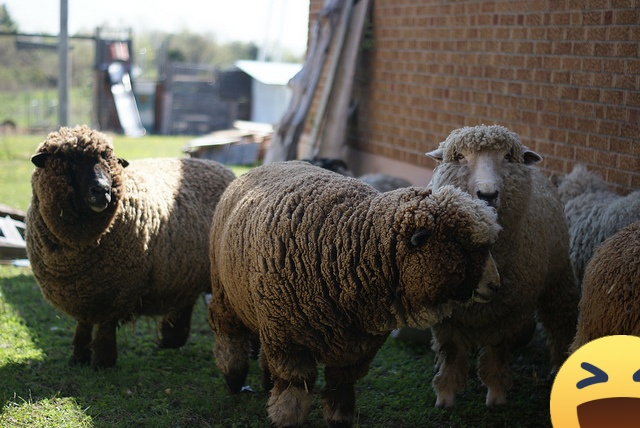haha: (550, 335, 640, 428)
